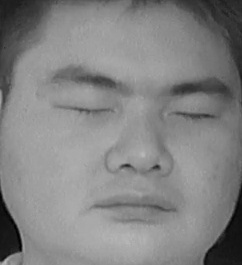blink: (61, 88, 113, 126), (172, 96, 222, 130)
mouth: (93, 180, 179, 225)
